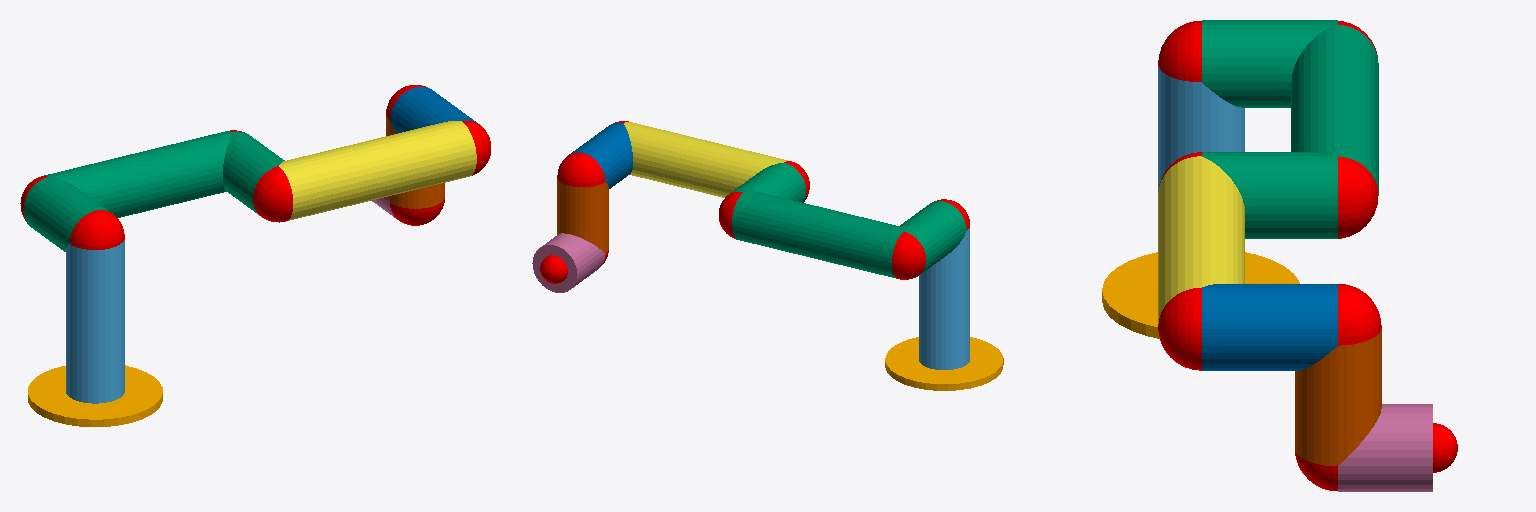
URDF robot description (custom_robot):
<?xml version="1.0"?>

<robot name="custom_robot">

  <!-- Base Link (fixed, no joint) -->
  <link name="base_link"/>

  <!-- Joint 1 -->
  <joint name="joint1" type="revolute">
    <parent link="base_link"/>
    <child link="link1"/>
    <origin xyz="0 0 0" rpy="0 0 0"/>      <!-- WRT Parent -->
    <axis xyz="0 0 1"/>    <!-- WRT Joint itself -->
    <limit lower="-3.141592653589793" upper="3.141592653589793" effort="100" velocity="1"/>
  </joint>

  <link name="link1">
    <visual>
      <geometry>
        <cylinder radius="0.08" length="0.01"/>
      </geometry>
       <origin xyz="0 0 0.005" rpy="0 0 0"/>
      <material name="sphere_color">
        <color rgba="1.0 .7 0. 1.0"/> <!-- Red color -->
      </material>
    </visual>
    <visual>
      <geometry>
        <cylinder radius="0.035" length="0.21"/>
      </geometry>
      <origin xyz="0 0 0.105" rpy="0 0 0"/>
      <material name="blue"/>
    </visual>
    <collision>
      <geometry>
        <cylinder radius="0.035" length="0.21"/>
      </geometry>
      <origin xyz="0 0 0.105" rpy="0 0 0"/>
    </collision>
  </link>

  <!-- Joint 2 -->
  <joint name="joint2" type="revolute">
    <parent link="link1"/>
    <child link="link2"/>
    <origin xyz="0 0 0.21" rpy="-1.57079633 0 0"/>
    <axis xyz="0 0 1"/>
    <limit lower="-3.141592653589793" upper="0" effort="100" velocity="1"/>
  </joint>
  <link name="link2">
  <!-- First part: Small cylinder -->
    <visual>
      <geometry>
        <sphere radius="0.035"/>
      </geometry>
      <material name="sphere_color">
        <color rgba="1.0 0.0 0.0 1.0"/> <!-- Red color -->
      </material>
    </visual>
  <visual>
    <geometry>
      <cylinder radius="0.035" length="0.1095"/>
    </geometry>
    <origin xyz="0 0 0.05475" rpy="0 0 0"/>
    <material name="green"/>
  </visual>

  <!-- Second part: Large cylinder (rotated to create part of the "C") -->
    <visual>
      <geometry>
        <sphere radius="0.035"/>
      </geometry>
       <origin xyz="0 0 0.107" rpy="0 0 0"/>
      <material name="sphere_color">
        <color rgba="1.0 0.0 0.0 1.0"/> <!-- Red color -->
      </material>
    </visual>
  <visual>
    <geometry>
      <cylinder radius="0.035" length="0.25"/>
    </geometry>
    <origin xyz="0.125 0 0.107" rpy="0 -1.57079633 0"/>
    <material name="green"/>
  </visual>

  <!-- Third part: Another small cylinder -->
    <visual>
      <geometry>
        <sphere radius="0.035"/>
      </geometry>
<origin xyz="0.25 0 0.107" rpy="0 0 0"/>
      <material name="sphere_color">
        <color rgba="1.0 0.0 0.0 1.0"/> <!-- Red color -->
      </material>
    </visual>
  <visual>
    <geometry>
      <cylinder radius="0.035" length="0.1095"/>
    </geometry>
    <origin xyz="0.25 0 0.05475" rpy="0 0 0"/>
    <material name="green"/>
  </visual>

  <!-- Collision part: Small cylinder (same as first part) -->
  <collision>
    <geometry>
      <cylinder radius="0.035" length="0.107"/>
    </geometry>
    <origin xyz="0 0 0.0535" rpy="0 0 0"/>
  </collision>

  <!-- Collision part: Large cylinder (same as second part) -->
  <collision>
    <geometry>
      <cylinder radius="0.035" length="0.25"/>
    </geometry>
    <origin xyz="0.125 0 0.107" rpy="0 -1.57079633 0"/>
  </collision>

  <!-- Collision part: Another small cylinder (same as third part) -->
  <collision>
    <geometry>
      <cylinder radius="0.035" length="0.107"/>
    </geometry>
    <origin xyz="0.25 0 0.0535" rpy="0 0 0"/>
  </collision>
</link>


  <!-- Joint 3 -->
  <joint name="joint3" type="revolute">
    <parent link="link2"/>
    <child link="link3"/>
    <origin xyz="0.25 0 0" rpy="0 0 0"/>
    <axis xyz="0 0 1"/>
    <limit lower="-2.6179938779914944" upper="2.6179938779914944" effort="100" velocity="1"/>
  </joint>
  <link name="link3">
    <visual>
      <geometry>
        <sphere radius="0.035"/>
      </geometry>
      <material name="sphere_color">
        <color rgba="1.0 0.0 0.0 1.0"/> <!-- Red color -->
      </material>
    </visual>
    <visual>
      <geometry>
        <cylinder radius="0.035" length="0.25"/>
      </geometry>
      <origin xyz="0.125 0 0" rpy="0 -1.57079633 0"/>
      <material name="red"/>
    </visual>
    <collision>
      <geometry>
        <cylinder radius="0.035" length="0.25"/>
      </geometry>
      <origin xyz="0.125 0 0" rpy="0 -1.57079633 0"/>
    </collision>
  </link>

  <!-- Joint 4 -->
  <joint name="joint4" type="revolute">
    <parent link="link3"/>
    <child link="link4"/>
    <origin xyz="0.25 0 0" rpy="0 0 0"/>
    <axis xyz="0 0 1"/>
    <limit lower="-4.53786" upper="1.3962634015954636" effort="100" velocity="1"/>
  </joint>

  <link name="link4">
    <visual>
      <geometry>
        <sphere radius="0.035"/>
      </geometry>
      <material name="sphere_color">
        <color rgba="1.0 0.0 0.0 1.0"/> <!-- Red color -->
      </material>
    </visual>
    <visual>
      <geometry>
        <cylinder radius="0.035" length="0.1095"/>
      </geometry>
      <origin xyz="0 0 0.05475" rpy="0 0 0"/>
      <material name="yellow"/>
    </visual>
    <collision>
      <geometry>
        <cylinder radius="0.035" length="0.1095"/>
      </geometry>
      <origin xyz="0 0 0.05475" rpy="0 0 0"/>
    </collision>
  </link>

  <!-- Joint 5 -->
  <joint name="joint5" type="revolute">
    <parent link="link4"/>
    <child link="link5"/>
    <origin xyz="0 0 0.1095" rpy="-1.57079633 0 0"/>
    <axis xyz="0 0 1"/>
    <limit lower="-2.93215" upper="2.93215" effort="100" velocity="1"/>
  </joint>
  <link name="link5">
    <visual>
      <geometry>
        <sphere radius="0.035"/>
      </geometry>
      <material name="sphere_color">
        <color rgba="1.0 0.0 0.0 1.0"/> <!-- Red color -->
      </material>
    </visual>
    <visual>
      <geometry>
        <sphere radius="0.035"/>
      </geometry>
       <origin xyz="0 0 0.107" rpy="0 -1.57079633 0"/>
      <material name="sphere_color">
        <color rgba="1.0 0.0 0.0 1.0"/> <!-- Red color -->
      </material>
    </visual>
    <visual>
      <geometry>
        <cylinder radius="0.035" length="0.107"/>
      </geometry>
      <origin xyz="0 0 0.0535" rpy="0 0 0"/>
      <material name="purple"/>
    </visual>
    <collision>
      <geometry>
        <cylinder radius="0.035" length="0.107"/>
      </geometry>
      <origin xyz="0 0 0.0535" rpy="0 0 0"/>
    </collision>
  </link>

  <!-- Joint 6 -->
  <joint name="joint6" type="revolute">
    <parent link="link5"/>
    <child link="link6"/>
    <origin xyz="0 -0.0762 0.107" rpy="1.57079633 0 0"/>
    <axis xyz="0 0 1"/>
    <limit lower="-3.03687" upper="3.03687" effort="100" velocity="1"/>
  </joint>
  <link name="link6">
    <visual>
      <geometry>
        <sphere radius="0.02"/>
      </geometry>
      <material name="sphere_color">
        <color rgba="1.0 0.0 0.0 1.0"/> <!-- Red color -->
      </material>
    </visual>
    <visual>
      <geometry>
        <cylinder radius="0.035" length="0.0762"/>
      </geometry>
      <origin xyz="0 0 -0.0381" rpy="0 0 0"/>
      <material name="cyan"/>
    </visual>
    <collision>
      <geometry>
        <cylinder radius="0.035" length="0.0762"/>
      </geometry>
      <origin xyz="0 0 -0.0381" rpy="0 0 0"/>
    </collision>
  </link>

</robot>

--- Render facts (derived) ---
Views: 3 orthographic renders of the robot side by side, from view 1: azimuth 30°, elevation 25°; view 2: azimuth 150°, elevation 25°; view 3: azimuth 270°, elevation 25°.
Model custom_robot with 7 links and 6 joints (6 revolute), rooted at base_link, posed every joint at zero.
Visible links, largest first — view 1: link2, link1, link3, link4, link5; view 2: link2, link1, link3, link5, link6, link4; view 3: link2, link4, link5, link1, link3, link6.
Boxes of the visible links, box(x1,y1,x2,y2) form: link2: box(20, 130, 284, 251); link1: box(28, 240, 162, 426); link3: box(253, 121, 476, 222); link4: box(390, 87, 490, 175); link5: box(386, 85, 444, 225); link2: box(719, 163, 969, 279); link1: box(885, 228, 1003, 390); link3: box(624, 122, 809, 202); link5: box(557, 152, 608, 263); link6: box(532, 233, 605, 292); link4: box(569, 121, 632, 188); link2: box(1158, 20, 1378, 238); link4: box(1158, 284, 1337, 370); link5: box(1295, 284, 1381, 490); link1: box(1102, 66, 1299, 338); link3: box(1158, 152, 1244, 323); link6: box(1338, 404, 1457, 491).
Size in the robot's own frame: 0.615 by 0.2857 by 0.245 metres.
Geometry: primitives only (box / cylinder / sphere), no mesh files.
